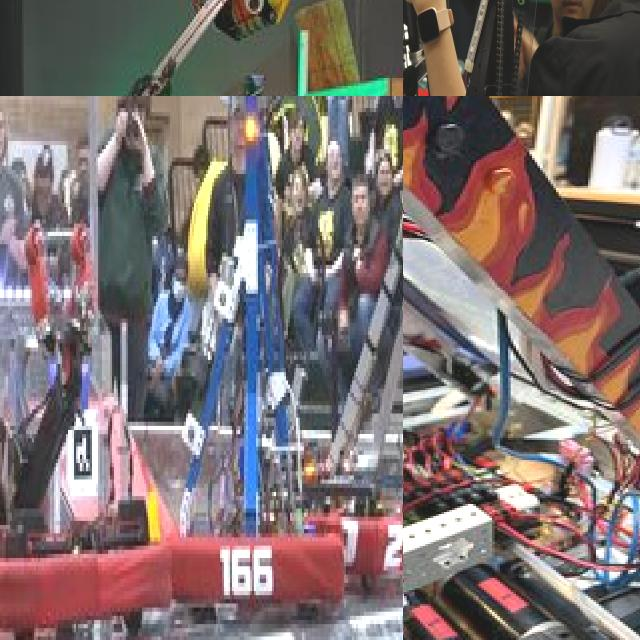FRC-Robots: (403, 96, 640, 640), (152, 96, 342, 576), (0, 206, 158, 640), (333, 147, 403, 613), (0, 0, 334, 96), (403, 0, 553, 96)
